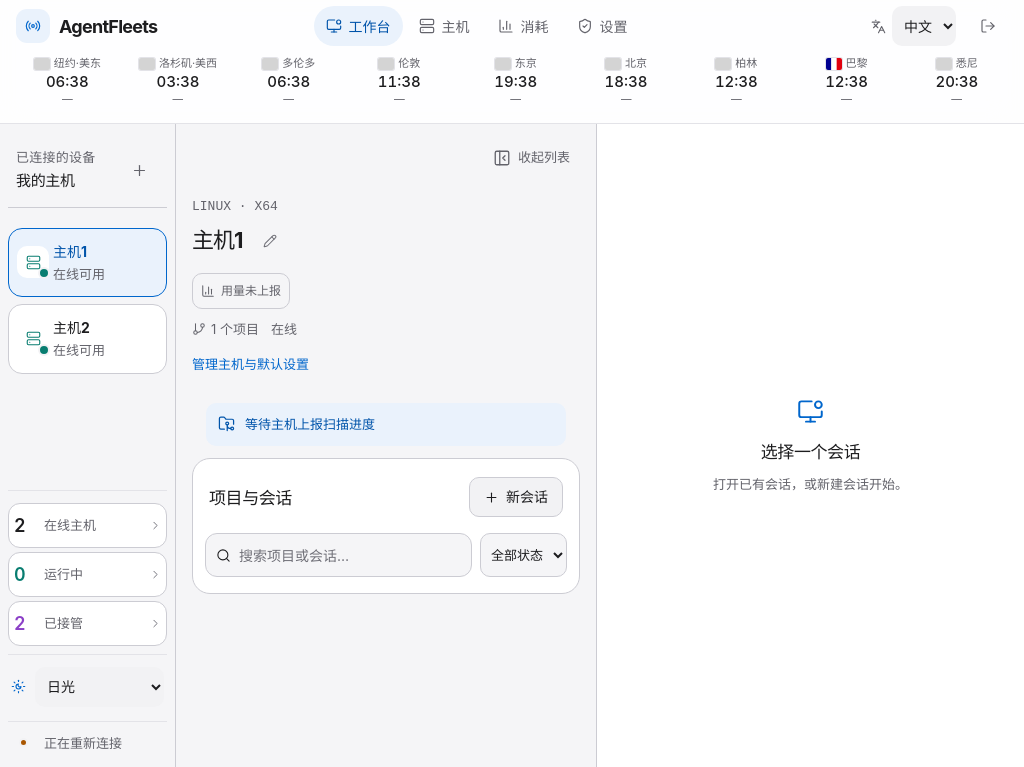
it: 会话工作区 › 顶部导航和两个页面的主机切换都有独立地址
What coordinates should you click on to do the following:
click the button "主机2 在线可用"
I would click on:
 (88, 339)
Its box is top-left (8, 304), bottom-right (167, 374).
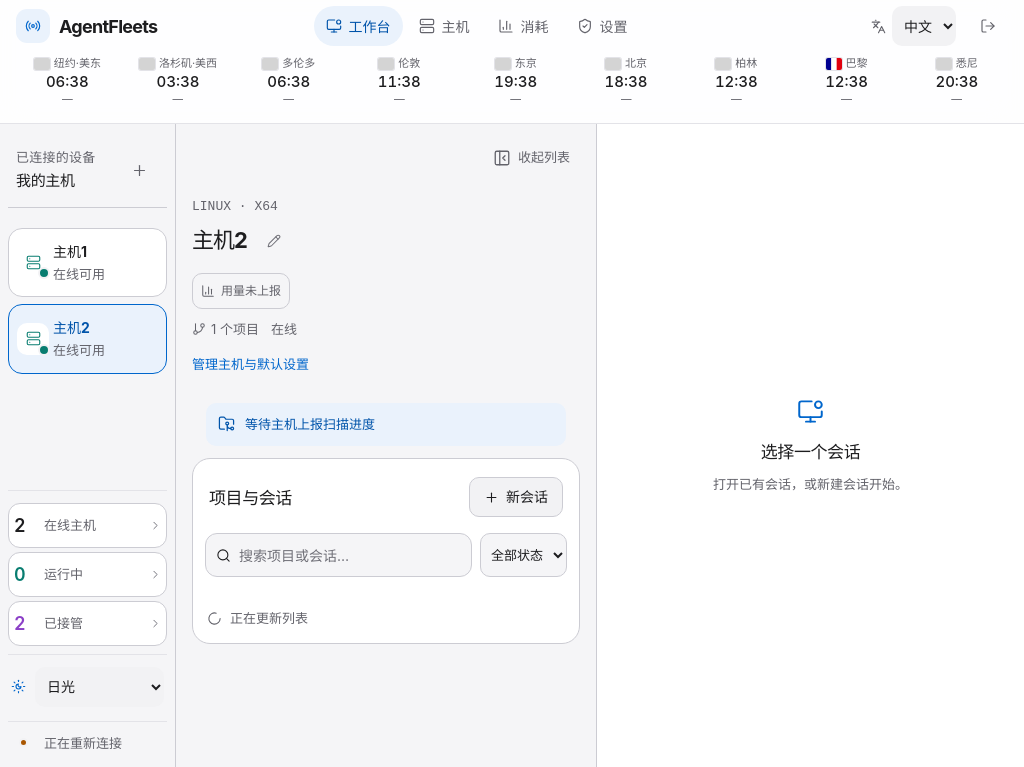
What coordinates should you click on to do the following:
click the button "主机"
I would click on:
 (444, 26)
Its box is top-left (406, 6), bottom-right (482, 46).
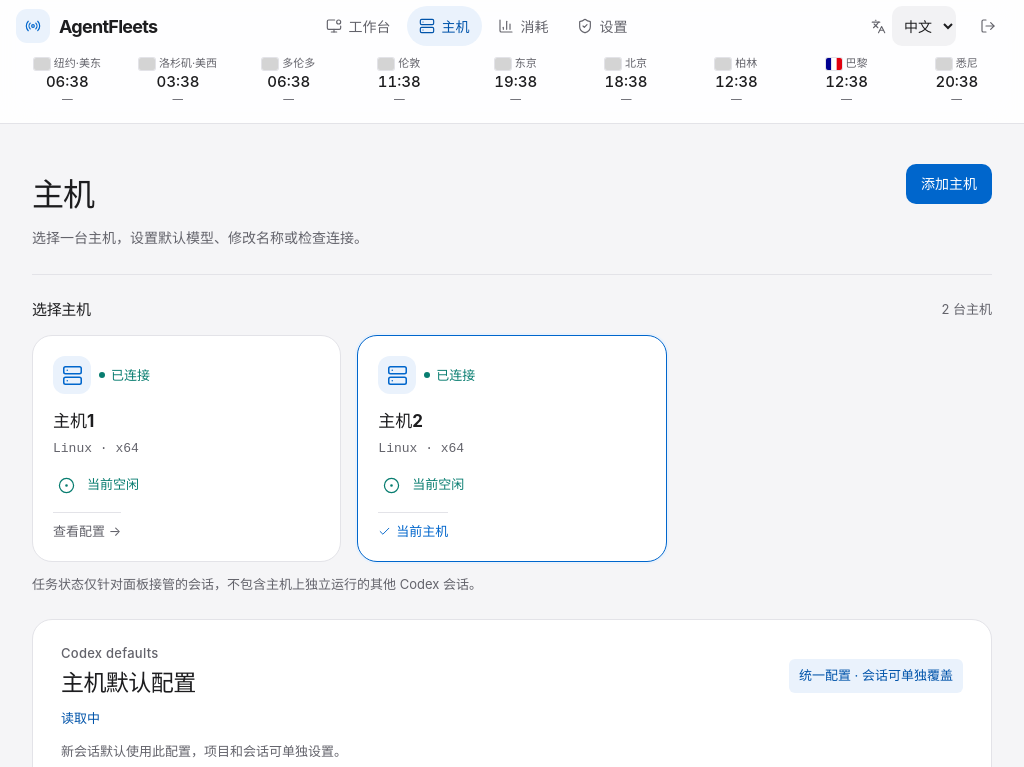
What coordinates should you click on to do the following:
click the button with aria-label "主机1，"
I would click on:
 (72, 375)
Its box is top-left (32, 335), bottom-right (341, 562).
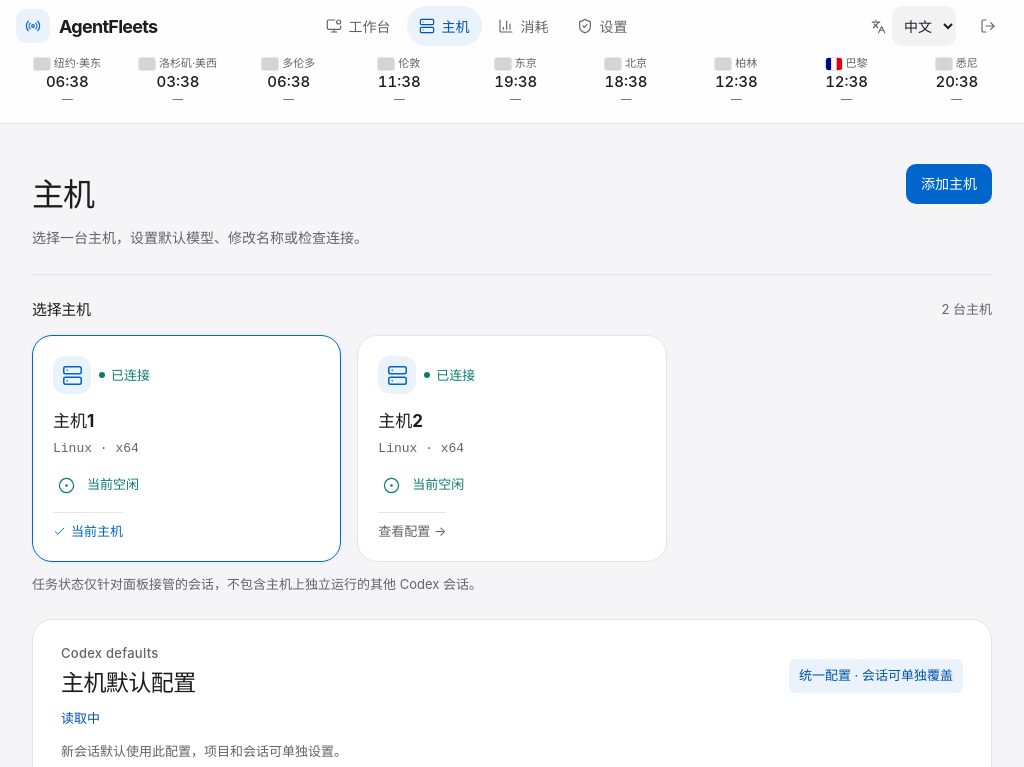
What coordinates should you click on to do the following:
click the button "消耗"
I would click on:
 (523, 26)
Its box is top-left (486, 6), bottom-right (560, 46).
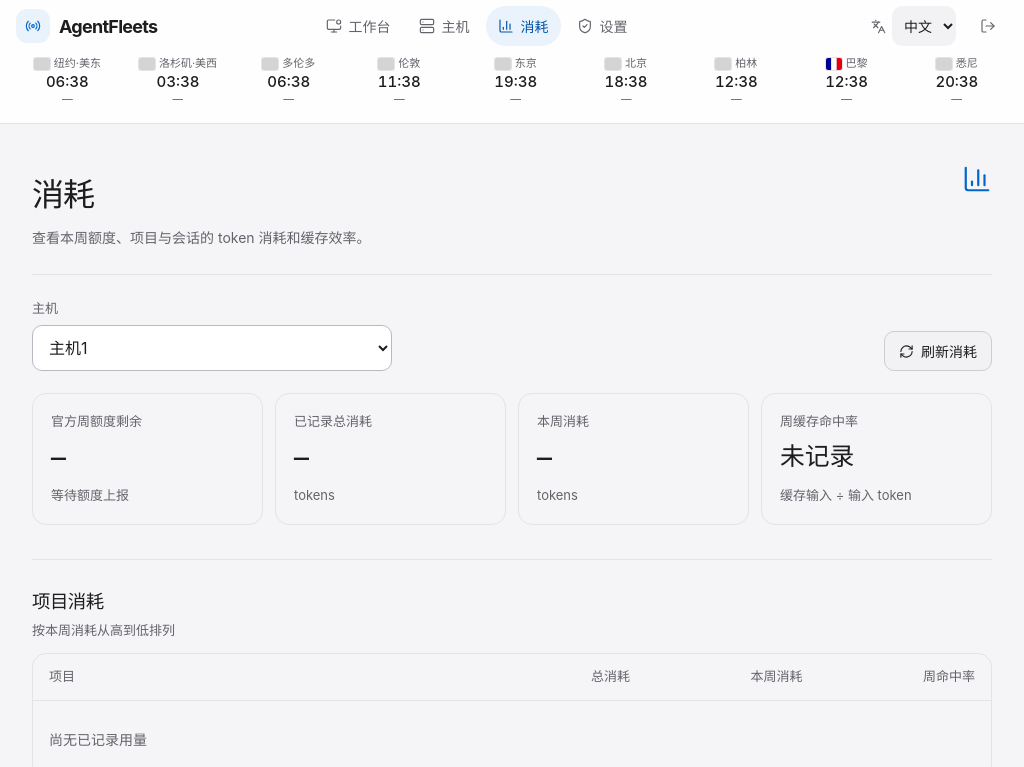
Check: the heading "消耗" is shown, box top-left (32, 175), bottom-right (94, 214)
What coordinates should you click on to do the following:
click the button "设置"
I would click on:
 (602, 26)
Its box is top-left (564, 6), bottom-right (640, 46).
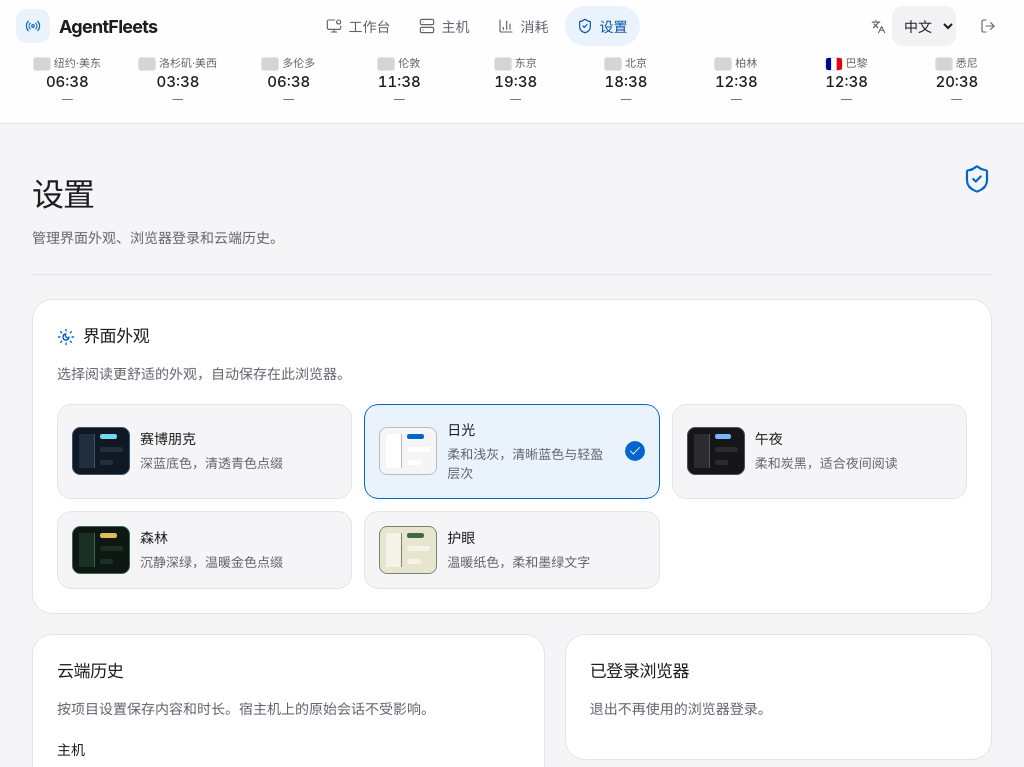
Check: the heading "设置" is shown, box top-left (32, 175), bottom-right (94, 214)
